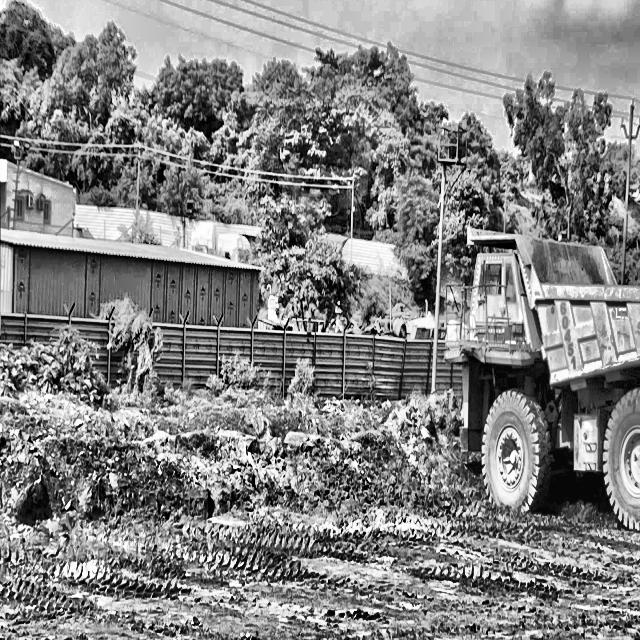dump_truck: (463, 225, 640, 550)
